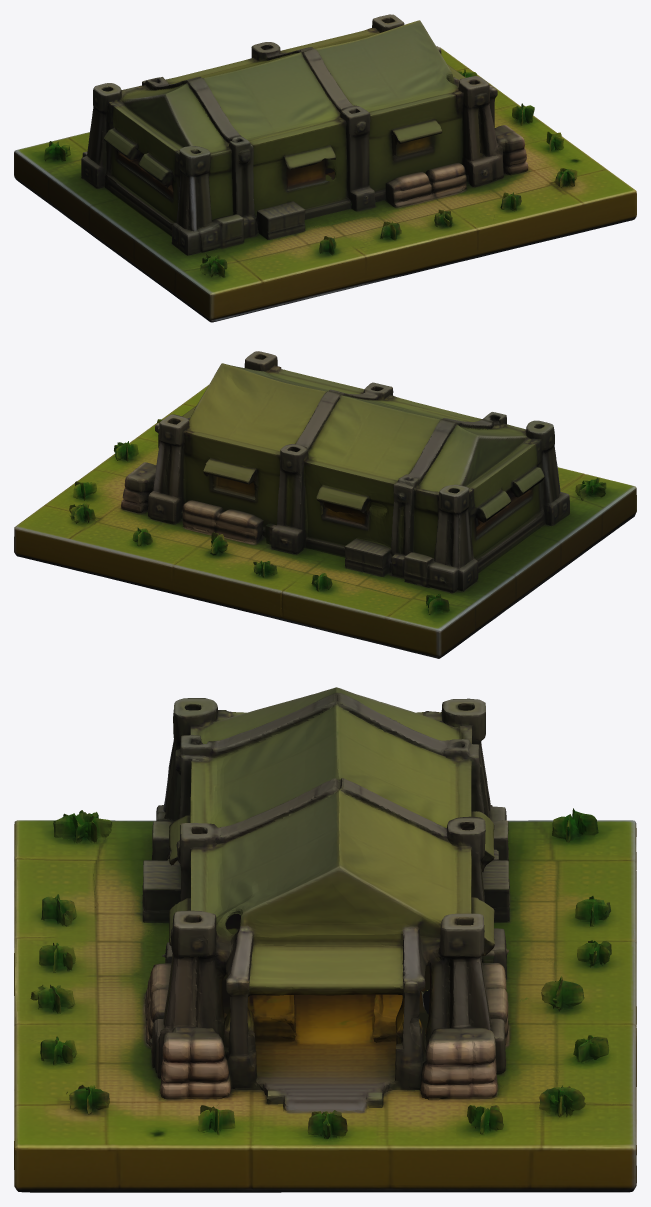
File: reserves_barracks.glb
3 views of the same model, one above another, from view 1: azimuth 30°, elevation 25°; view 2: azimuth 150°, elevation 25°; view 3: azimuth 270°, elevation 25° (orthographic). The views are drawn at different scales.
Parts seen in each view (by area): view 1: world; view 2: world; view 3: world.
Part boxes in pixels (x1,y1,x2,y2): world: [14, 14, 636, 322]; world: [14, 351, 636, 658]; world: [14, 687, 636, 1192].
Size of the model in its own units: 1 by 0.3413 by 0.8033.
1 material, 1 textured.
